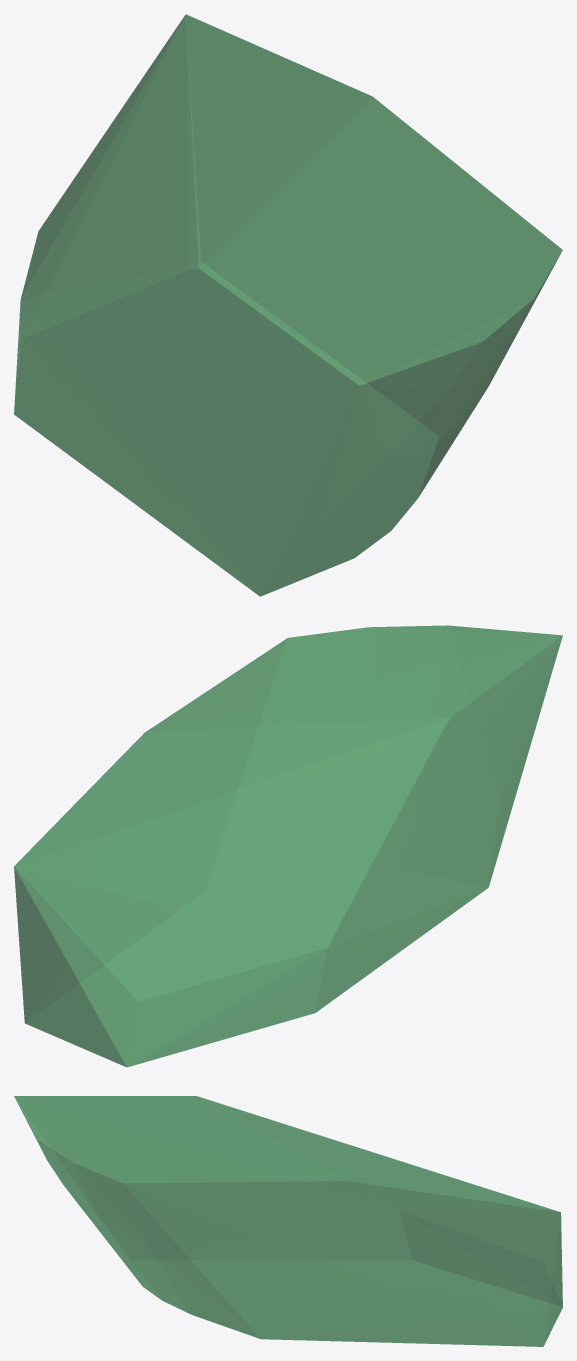
3 renders of one model, top to bottom at view 1: azimuth 30°, elevation 25°; view 2: azimuth 150°, elevation 25°; view 3: azimuth 270°, elevation 25°, orthographic. The views are drawn at different scales.
Parts seen in each view (by area): view 1: Shape_IndexedFaceSet.008_Shape_IndexedFaceSet.5910; view 2: Shape_IndexedFaceSet.008_Shape_IndexedFaceSet.5910; view 3: Shape_IndexedFaceSet.008_Shape_IndexedFaceSet.5910.
Part boxes in pixels (<box>): Shape_IndexedFaceSet.008_Shape_IndexedFaceSet.5910: <box>14,14,562,596</box>; Shape_IndexedFaceSet.008_Shape_IndexedFaceSet.5910: <box>14,625,562,1067</box>; Shape_IndexedFaceSet.008_Shape_IndexedFaceSet.5910: <box>14,1096,562,1346</box>.
Size of the model in its own units: 0.3038 by 0.2855 by 0.8267.
